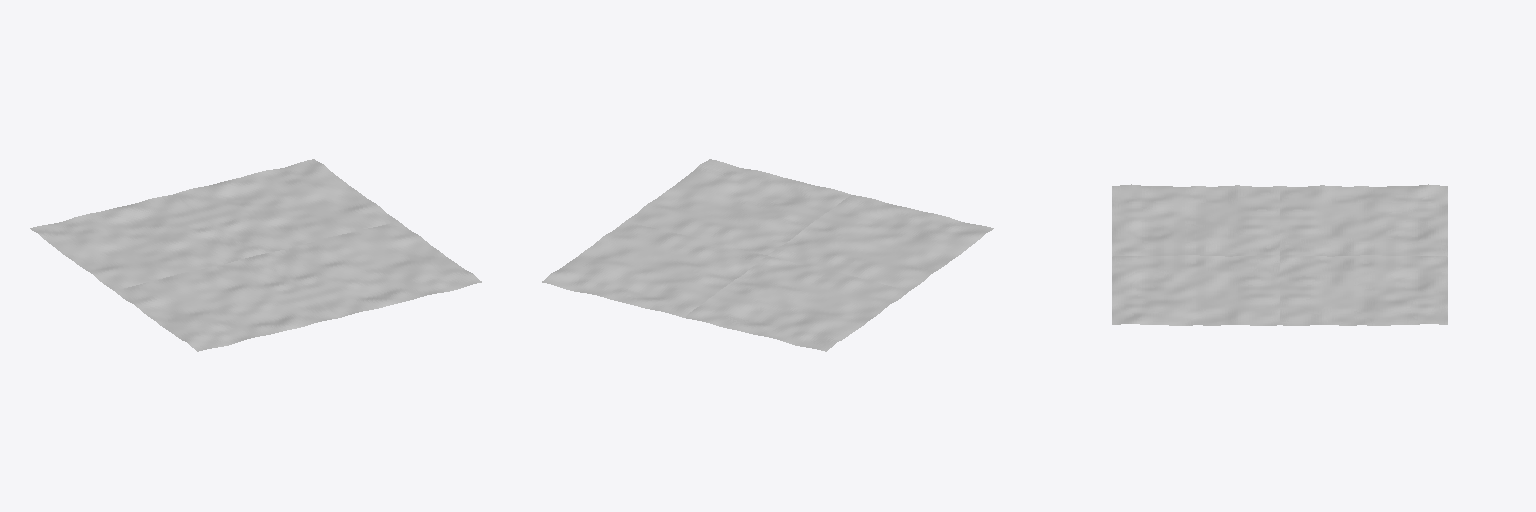
File: grass.obj
3 views of the same model, side by side, from view 1: azimuth 30°, elevation 25°; view 2: azimuth 150°, elevation 25°; view 3: azimuth 270°, elevation 25° (orthographic).
Visible parts, largest first — view 1: 1, 2, 3, 4; view 2: 3, 4, 1, 2; view 3: 2, 4, 1, 3.
Boxes of the visible parts, x1=… form: 1: x1=173, y1=159, x2=397, y2=254; 2: x1=30, y1=195, x2=255, y2=290; 3: x1=256, y1=221, x2=481, y2=317; 4: x1=115, y1=256, x2=338, y2=351; 3: x1=626, y1=159, x2=850, y2=254; 4: x1=768, y1=195, x2=993, y2=290; 1: x1=542, y1=221, x2=767, y2=317; 2: x1=685, y1=256, x2=908, y2=351; 2: x1=1280, y1=184, x2=1447, y2=256; 4: x1=1112, y1=184, x2=1279, y2=256; 1: x1=1280, y1=255, x2=1447, y2=325; 3: x1=1112, y1=255, x2=1279, y2=325.
Size of the model in its own units: 554 by 7.27 by 567.